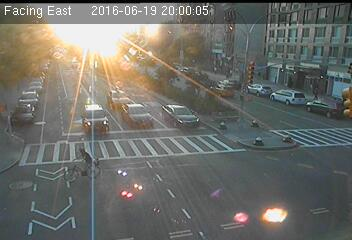neg: (66, 141, 96, 181), (116, 54, 130, 72), (209, 55, 222, 73), (139, 68, 150, 83)
